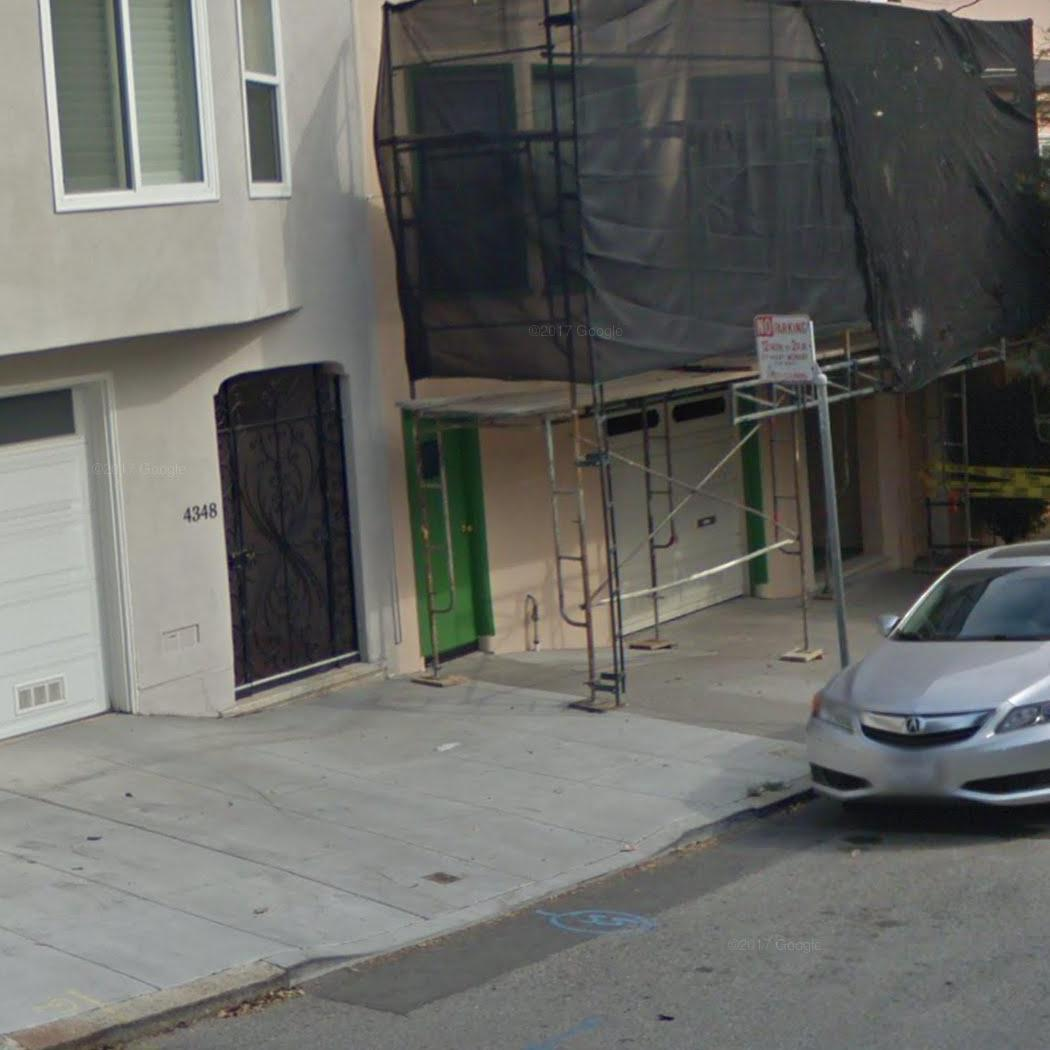No Parking: (748, 308, 821, 387)
